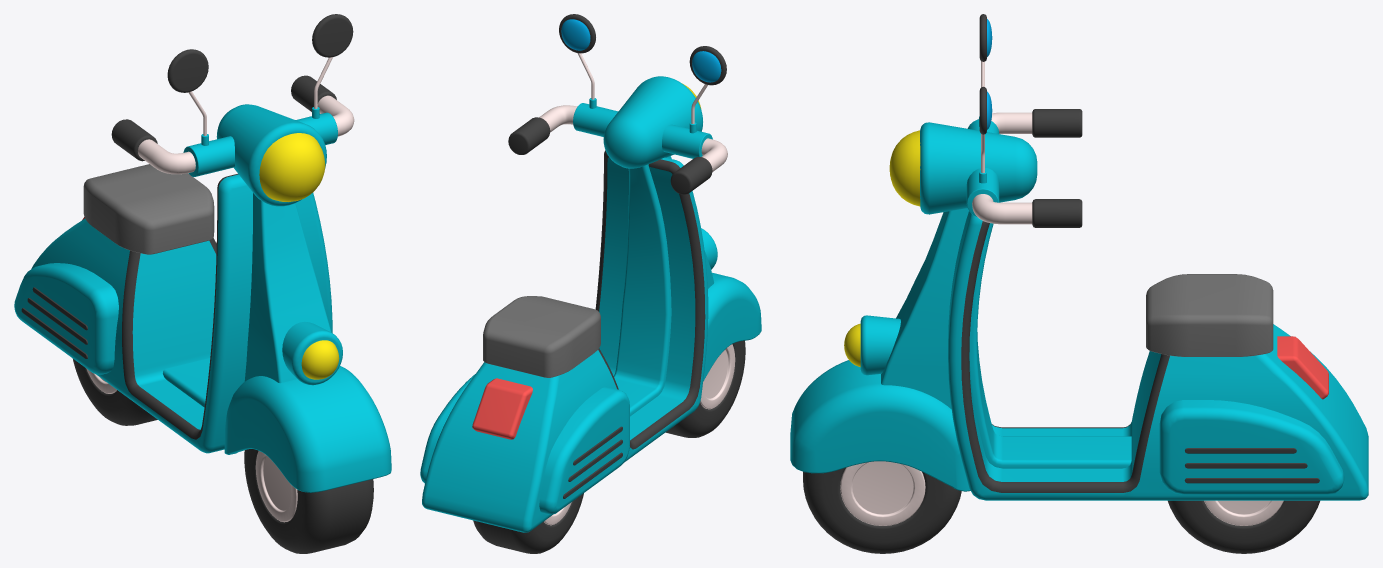
File: City_14_Scooter_1.glb
3 renders of one model, left to right at view 1: azimuth 30°, elevation 25°; view 2: azimuth 150°, elevation 25°; view 3: azimuth 270°, elevation 25°, orthographic. The views are drawn at different scales.
Parts seen in each view (by area): view 1: City_14_Scooter_1; view 2: City_14_Scooter_1; view 3: City_14_Scooter_1.
Boxes of the visible parts, <box> form: City_14_Scooter_1: <box>14,14,391,553</box>; City_14_Scooter_1: <box>420,14,761,553</box>; City_14_Scooter_1: <box>790,14,1368,553</box>.
Bounding box in the file's own units: 0.6157 × 1.38 × 1.47.
Materials: 1 (1 with a texture image).
